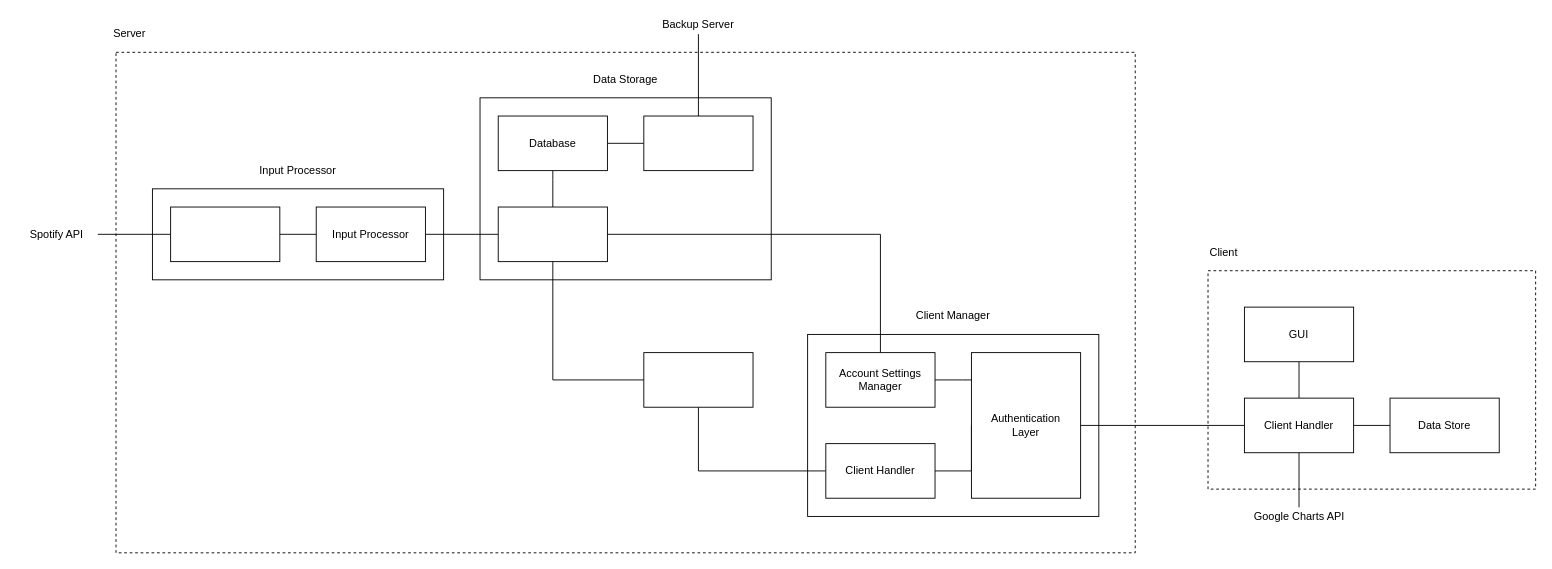
The diagram is 1552 pixels wide and 569 high, and some of its shapes have lost their labels. The shapes that lost their labels are listed below. From the top down, each one's centre as x and y in pixels, then its label:
[698,143]: Backup System
[225,234]: Spotify Monitor
[552,234]: Query Engine
[698,379]: Output Processor
